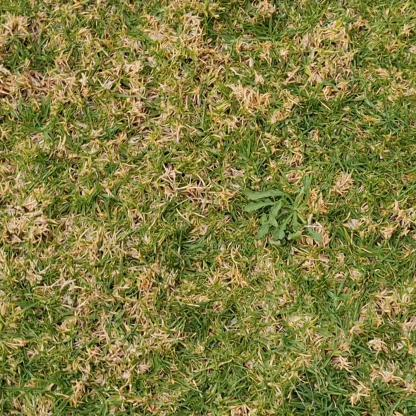Weeds: (245, 176, 322, 246)
